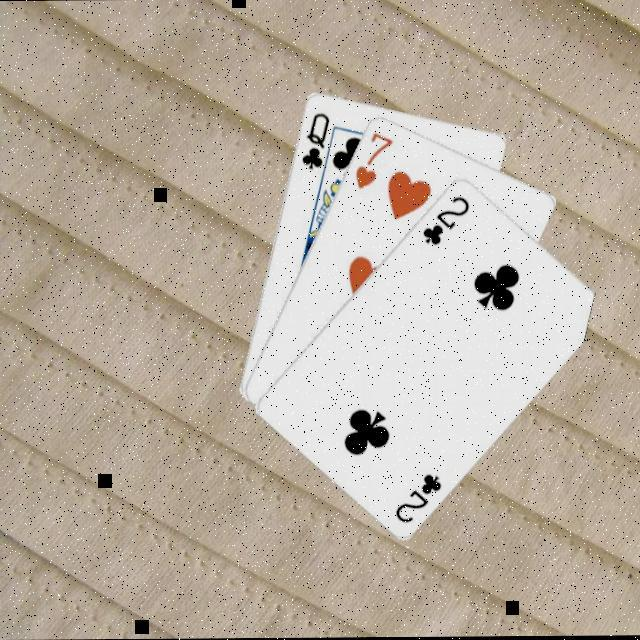2C: (420, 191, 474, 247), (393, 468, 447, 524)
7H: (353, 127, 398, 191)
QC: (300, 107, 334, 171)
